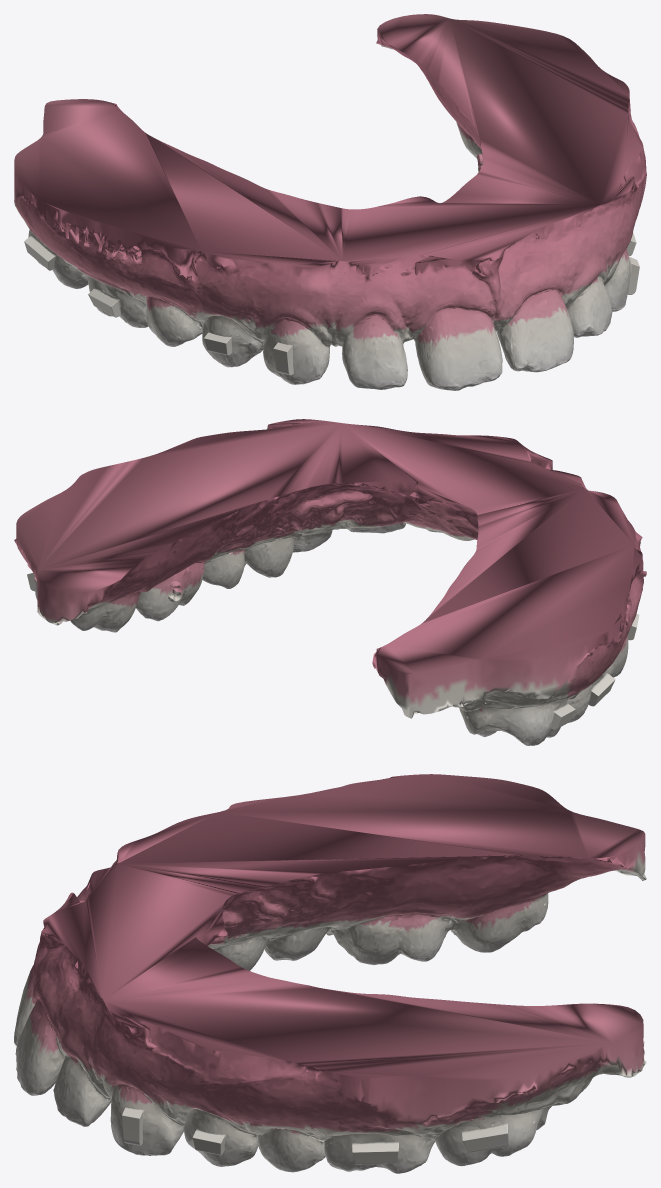
Rendered from Niya Priority Upper jaw - 03 - Model.glb.
3 views of the same model, one above another, from view 1: azimuth 30°, elevation 25°; view 2: azimuth 150°, elevation 25°; view 3: azimuth 270°, elevation 25° (orthographic). The views are drawn at different scales.
Visible parts, largest first — view 1: Niya Priority Upper jaw - 03 - Model; view 2: Niya Priority Upper jaw - 03 - Model; view 3: Niya Priority Upper jaw - 03 - Model.
Part boxes in pixels (box(x1,y1,x2,y2)): Niya Priority Upper jaw - 03 - Model: box(14, 14, 646, 390); Niya Priority Upper jaw - 03 - Model: box(14, 419, 646, 745); Niya Priority Upper jaw - 03 - Model: box(14, 774, 646, 1173).
Bounding box in the file's own units: 66.36 × 13.7 × 57.94.
